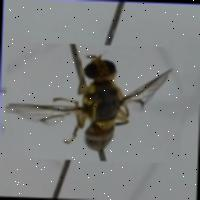Oriental-fruit-fly: (4, 41, 184, 163)
